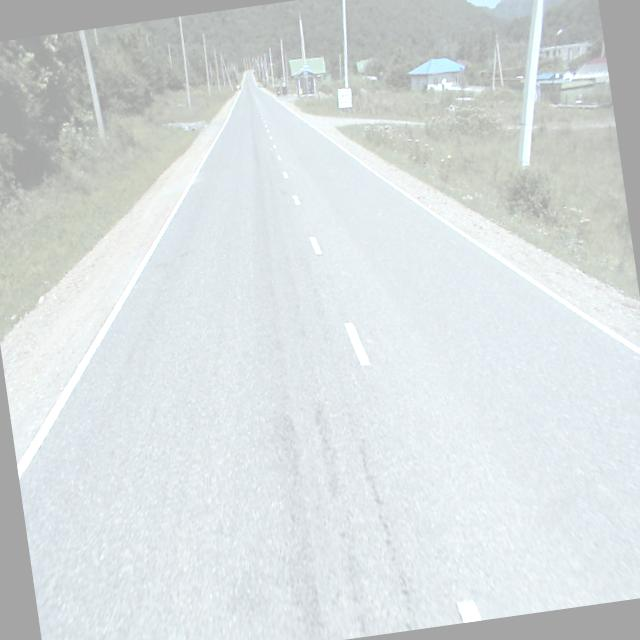road: (17, 70, 640, 640)
